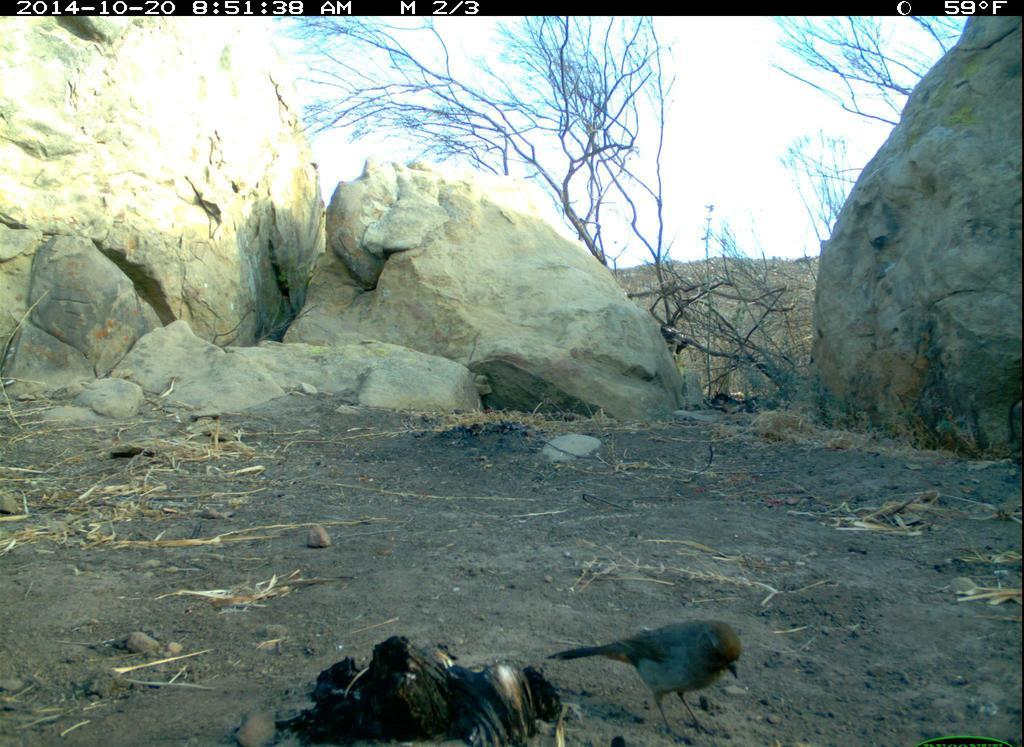bird: (547, 610, 761, 743)
